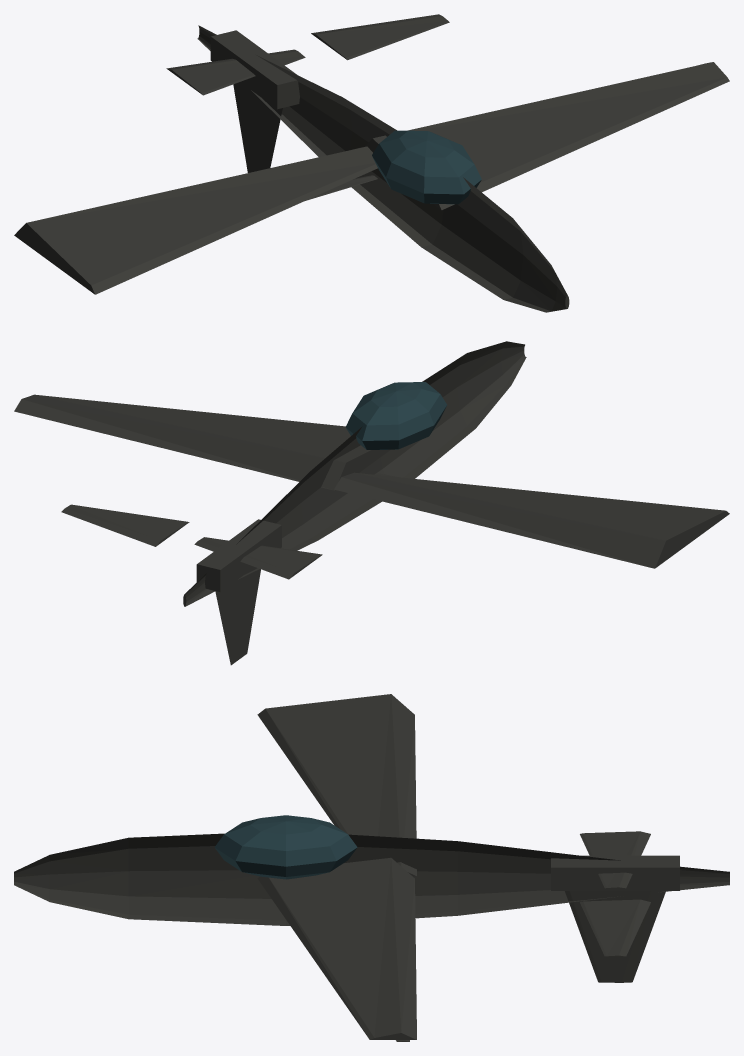
The model's file is p47_Destroyed.glb.
The picture shows the model from 3 angles, top to bottom: view 1: azimuth 30°, elevation 25°; view 2: azimuth 150°, elevation 25°; view 3: azimuth 270°, elevation 25°; orthographic projection. The views are drawn at different scales.
Visible parts, largest first — view 1: Wing_L, Fuselage, Wing_R, Cockpit, TailBoom, Elevator_R, Rudder, Elevator_L; view 2: Wing_L, Wing_R, Fuselage, Cockpit, TailBoom, Rudder, Elevator_R, Elevator_L; view 3: Fuselage, Wing_R, Wing_L, Cockpit, TailBoom, Rudder, Elevator_R, Elevator_L.
Part boxes in pixels (x1,y1,x2,y2): Wing_L: [14, 146, 377, 294]; Fuselage: [197, 25, 569, 312]; Wing_R: [364, 62, 729, 210]; Cockpit: [372, 130, 481, 204]; TailBoom: [210, 30, 299, 109]; Elevator_R: [311, 14, 449, 60]; Rudder: [233, 82, 282, 172]; Elevator_L: [166, 49, 305, 95]; Wing_L: [334, 472, 729, 568]; Wing_R: [14, 394, 390, 490]; Fuselage: [183, 341, 526, 606]; Cockpit: [345, 382, 446, 449]; TailBoom: [196, 519, 281, 592]; Rudder: [215, 567, 260, 665]; Elevator_R: [61, 504, 189, 546]; Elevator_L: [194, 537, 322, 579]; Fuselage: [14, 833, 729, 925]; Wing_R: [257, 857, 416, 1039]; Wing_L: [257, 694, 416, 876]; Cockpit: [214, 815, 357, 879]; TailBoom: [551, 855, 679, 890]; Rudder: [565, 891, 665, 982]; Elevator_R: [580, 899, 650, 956]; Elevator_L: [580, 831, 650, 888].
Bounding box in the file's own units: 11.9 × 2.73 × 11.
